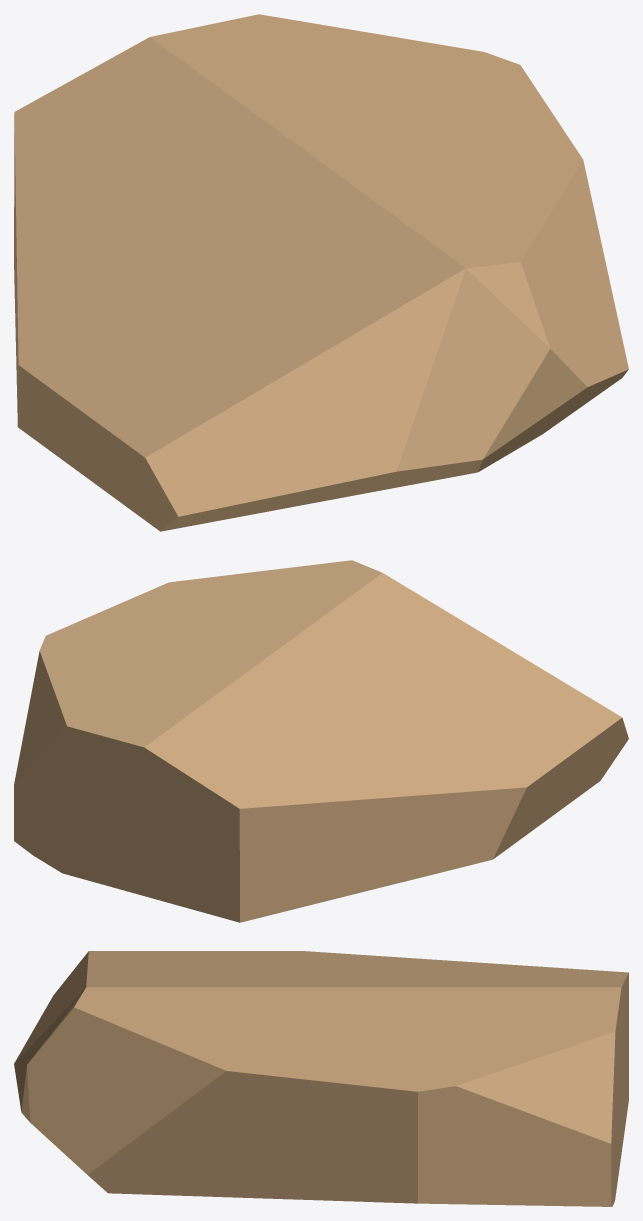
The model's file is Rock_Flat_m_04.fbx.
3 renders of one model, top to bottom at view 1: azimuth 30°, elevation 25°; view 2: azimuth 150°, elevation 25°; view 3: azimuth 270°, elevation 25°, orthographic. The views are drawn at different scales.
Parts seen in each view (by area): view 1: Rock_Flat_m_04; view 2: Rock_Flat_m_04; view 3: Rock_Flat_m_04.
Boxes of the visible parts, box(x1,y1,x2,y2) form: Rock_Flat_m_04: box(14, 14, 628, 531); Rock_Flat_m_04: box(14, 560, 628, 922); Rock_Flat_m_04: box(14, 951, 628, 1206).
Size of the model in its own units: 117 by 38.75 by 129.
